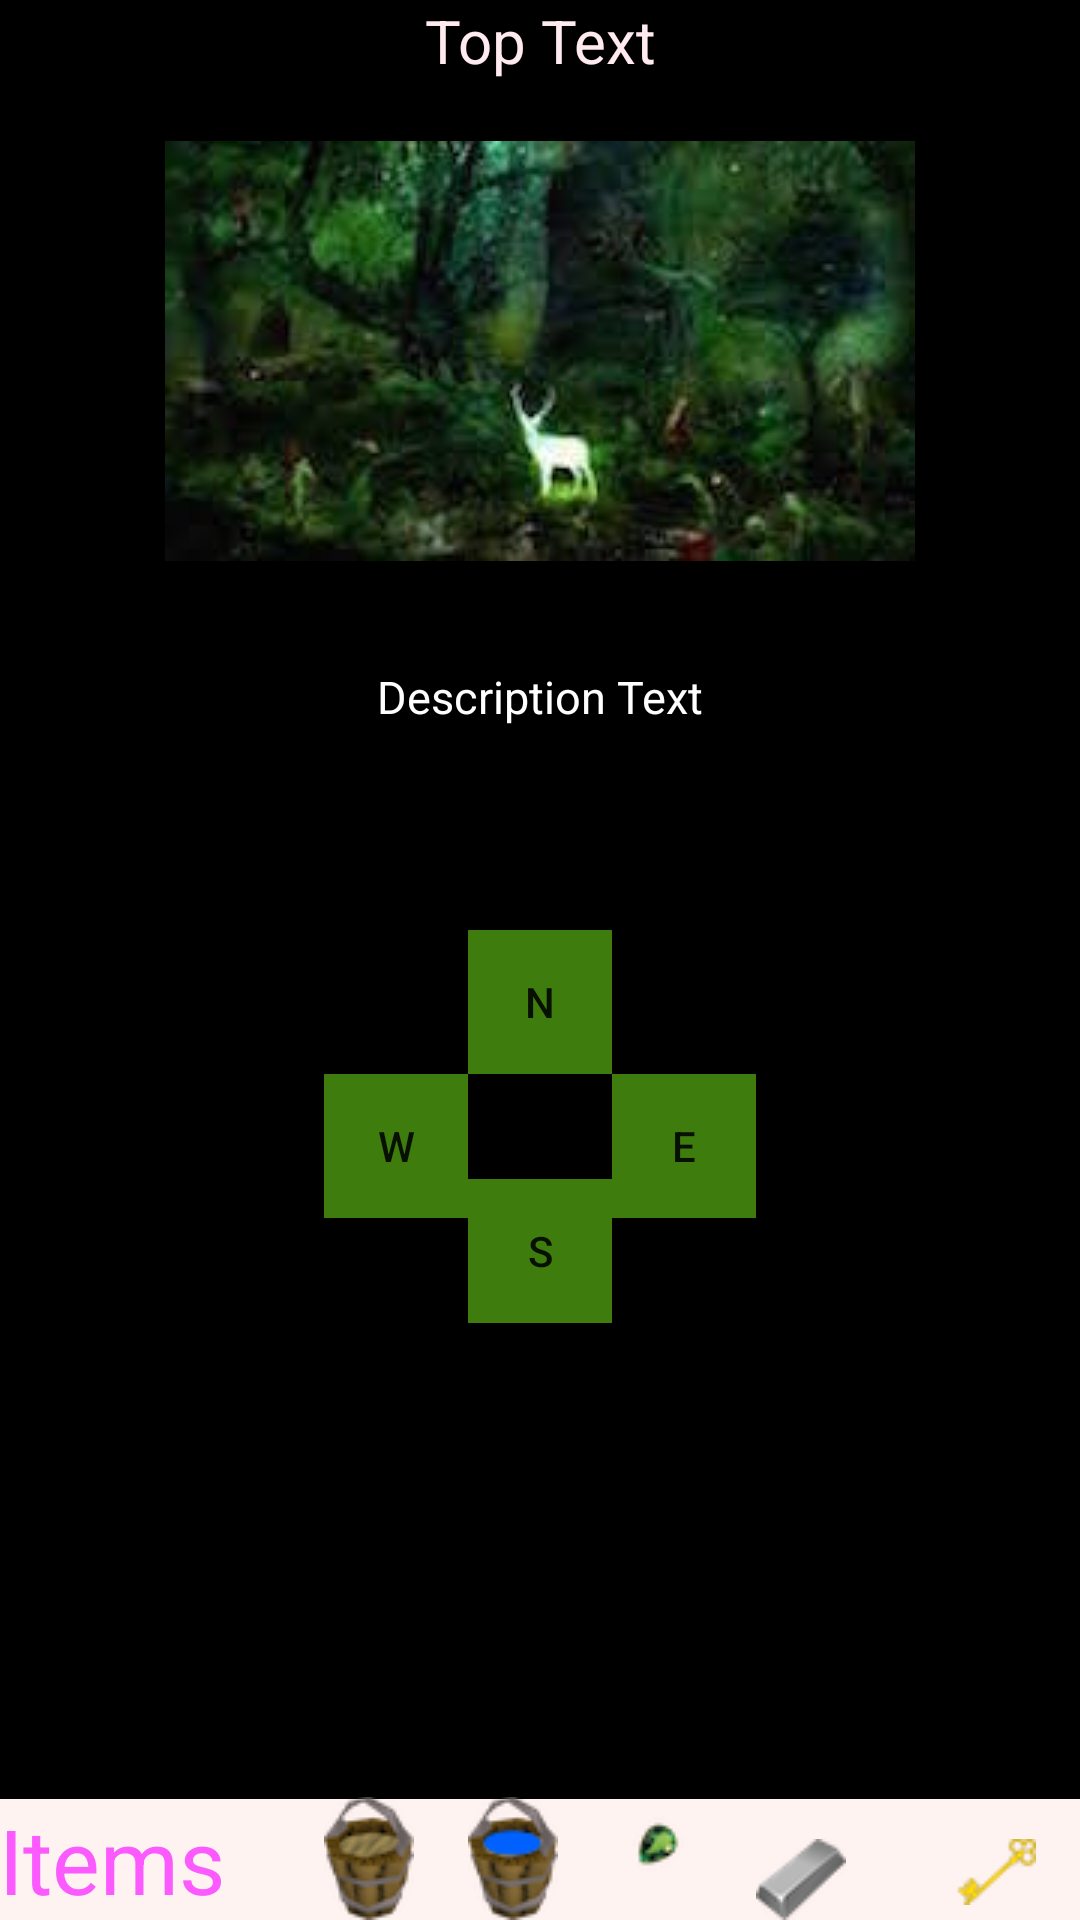

Icons on this 1080px x 1920px Android screen, each with the point to tap as point (x, y):
bucket: point (369, 1858), point (513, 1858)
key: point (996, 1872)
lead bar: point (801, 1879)
